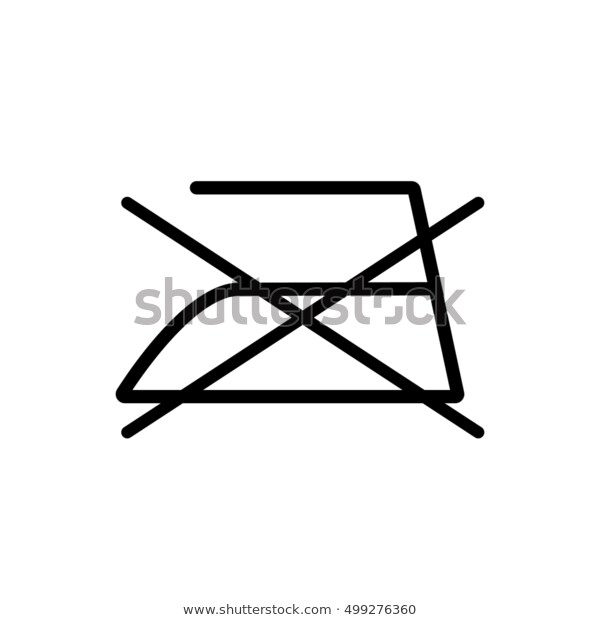do_not_iron: (115, 180, 486, 438)
